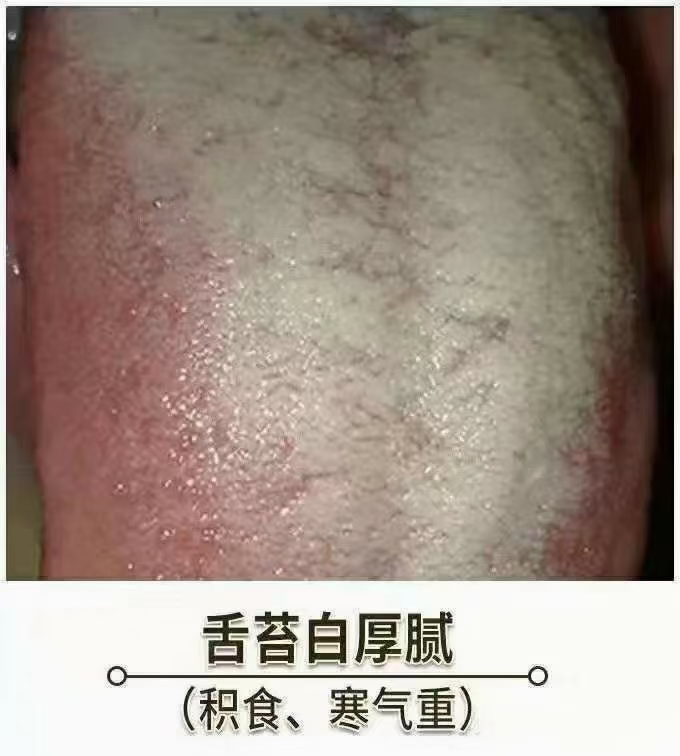baitaishe: (20, 5, 653, 581)
